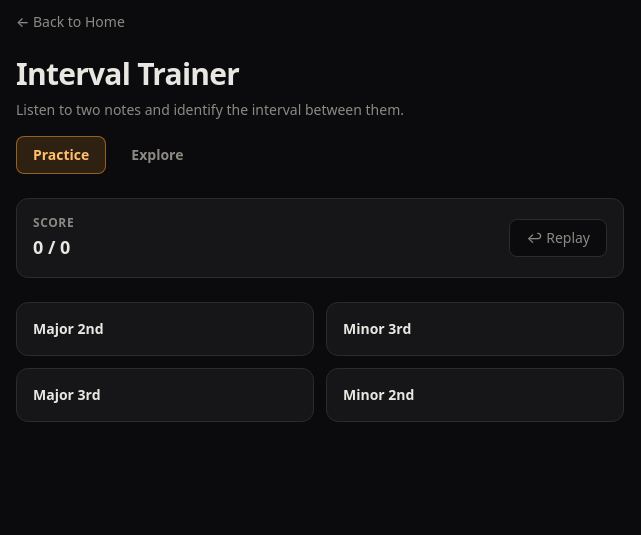
Test: IntervalTrainer › correct answer flow › clicking the correct answer scores "1 / 1" and shows positive feedback
Step 1. Click the button with aria-label "Answer Minor 2nd" → (379, 394), box [326,368,624,422]
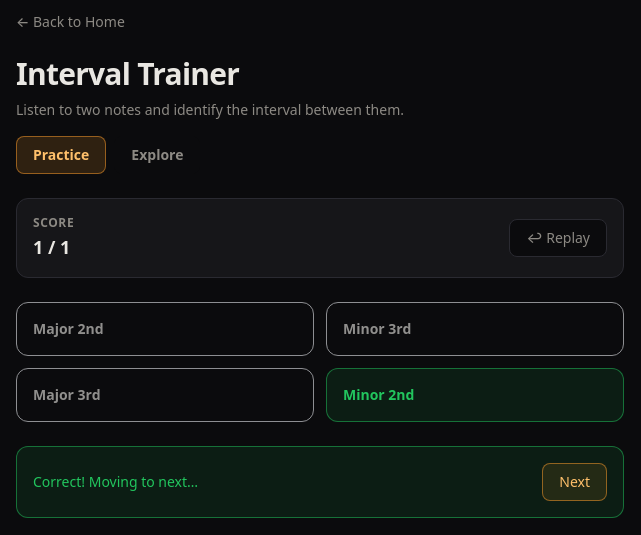
expect the text "1 / 1" is shown: met, box [33,233,74,261]
expect the text "Correct!" is shown: met, box [33,472,198,491]
